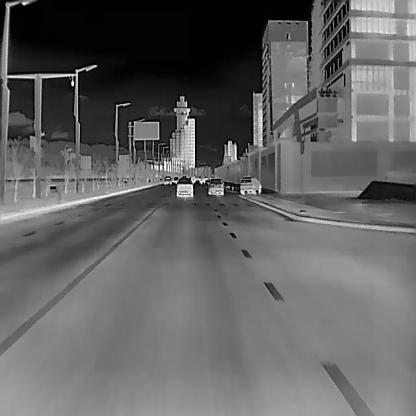car: (238, 175, 260, 194), (175, 176, 193, 198), (208, 177, 224, 194), (163, 174, 170, 184)
